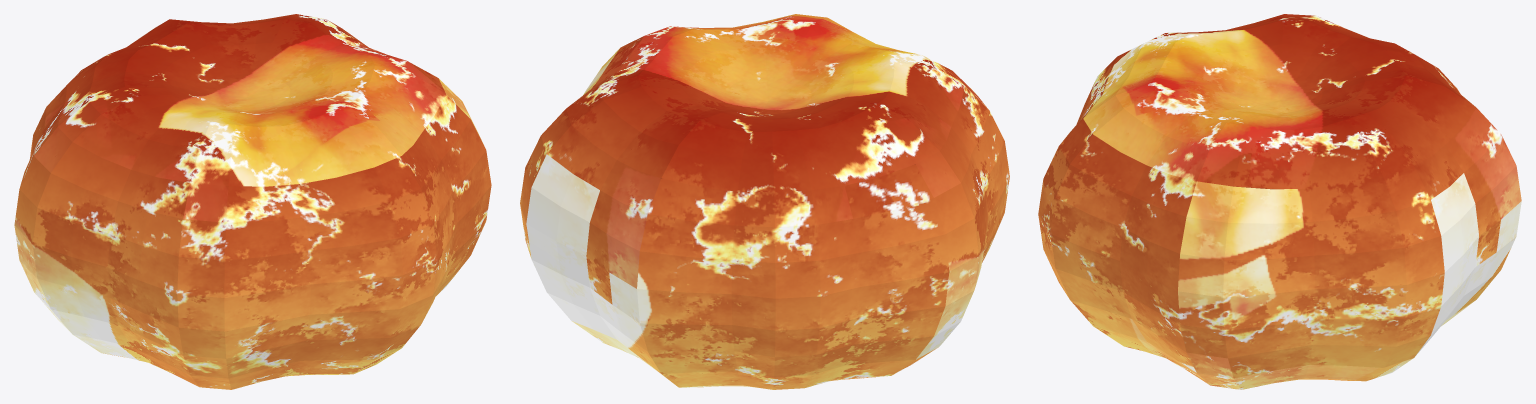
Rendered from bakete11st.glb.
The picture shows the model from 3 angles, left to right: view 1: azimuth 30°, elevation 25°; view 2: azimuth 150°, elevation 25°; view 3: azimuth 270°, elevation 25°; orthographic projection.
Parts seen in each view (by area): view 1: Pumpkin1; view 2: Pumpkin1; view 3: Pumpkin1.
Part boxes in pixels (x1,y1,x2,y2): Pumpkin1: (14, 14, 491, 389); Pumpkin1: (520, 14, 1009, 389); Pumpkin1: (1038, 14, 1521, 389).
Size of the model in its own units: 4.34 by 2.6 by 4.36.
Materials: 1 (1 with a texture image).
